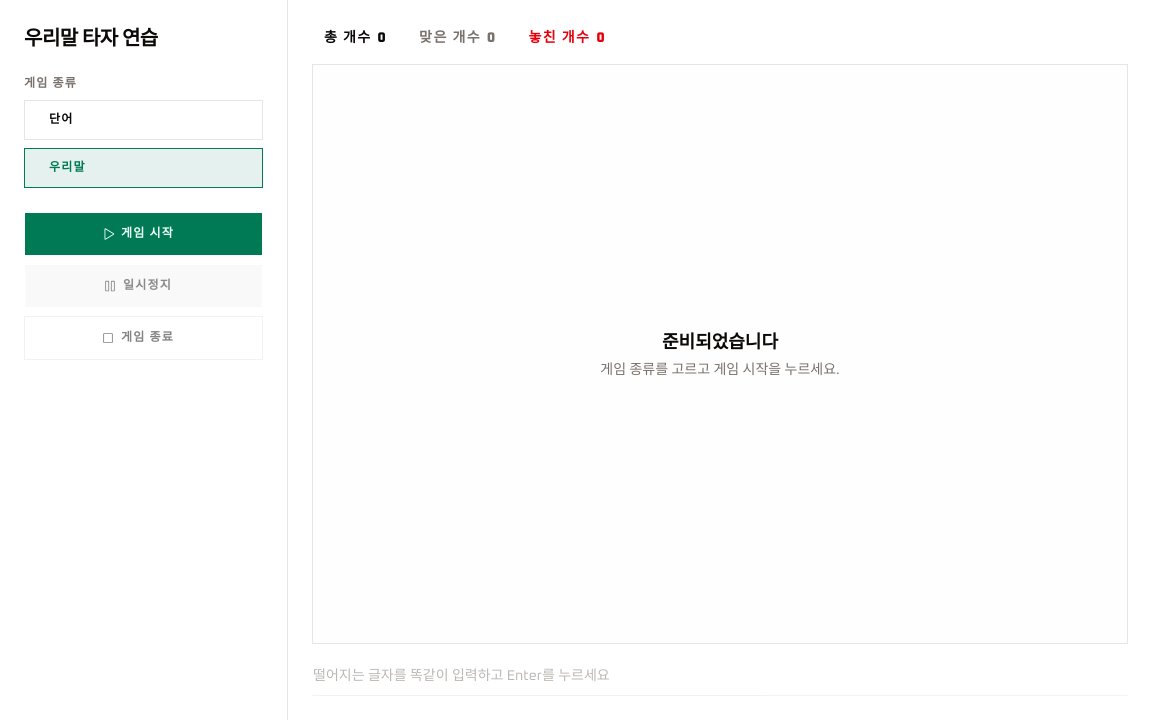
Scenario: 똑같이 입력하고 Enter를 누르면 사라지고 맞은 개수가 늘며 입력창이 비워진다
Click the button "게임 시작": [144, 234] box left=24, top=212, right=263, bottom=256
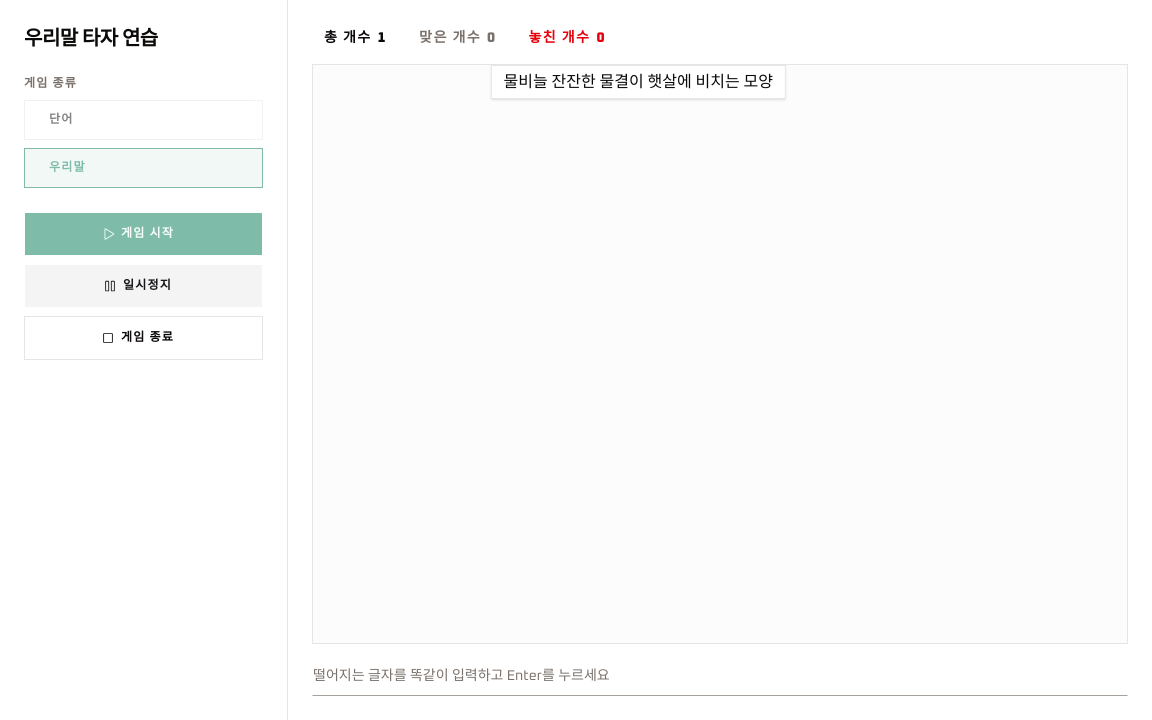
In the field named "타이핑 입력": [720, 676] box left=312, top=656, right=1128, bottom=696, type "물비늘 잔잔한 물결이 햇살에 비치는 모양"
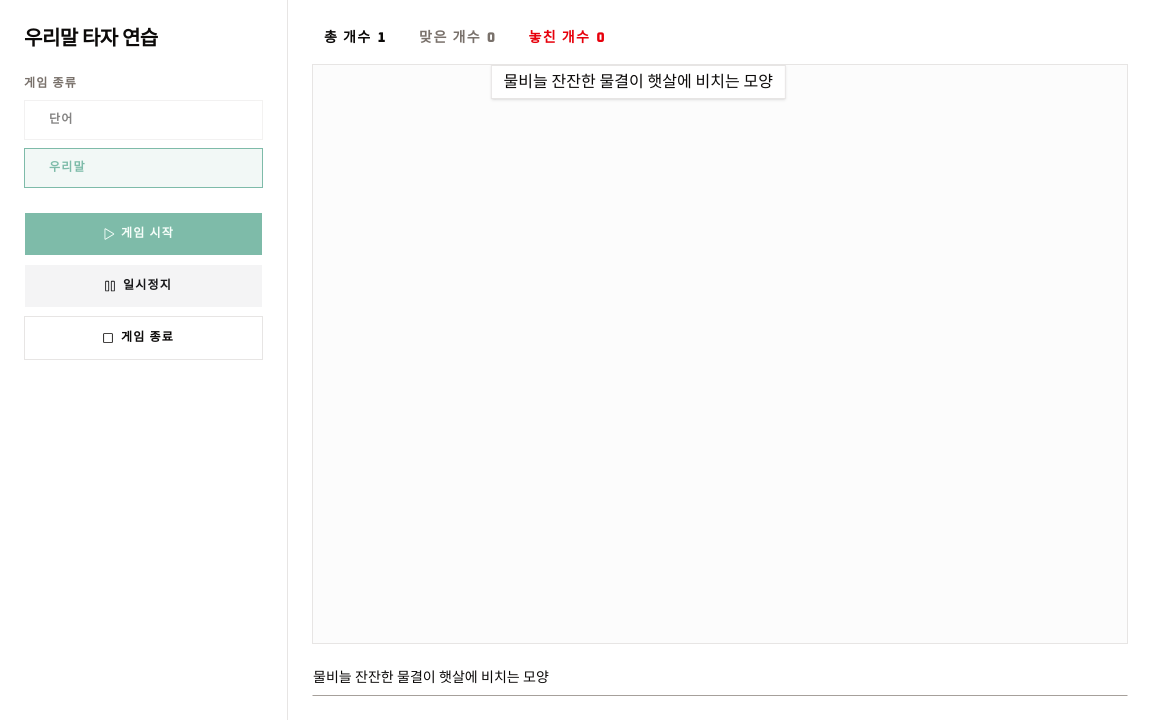
Press Enter in the field named "타이핑 입력", box left=312, top=656, right=1128, bottom=696
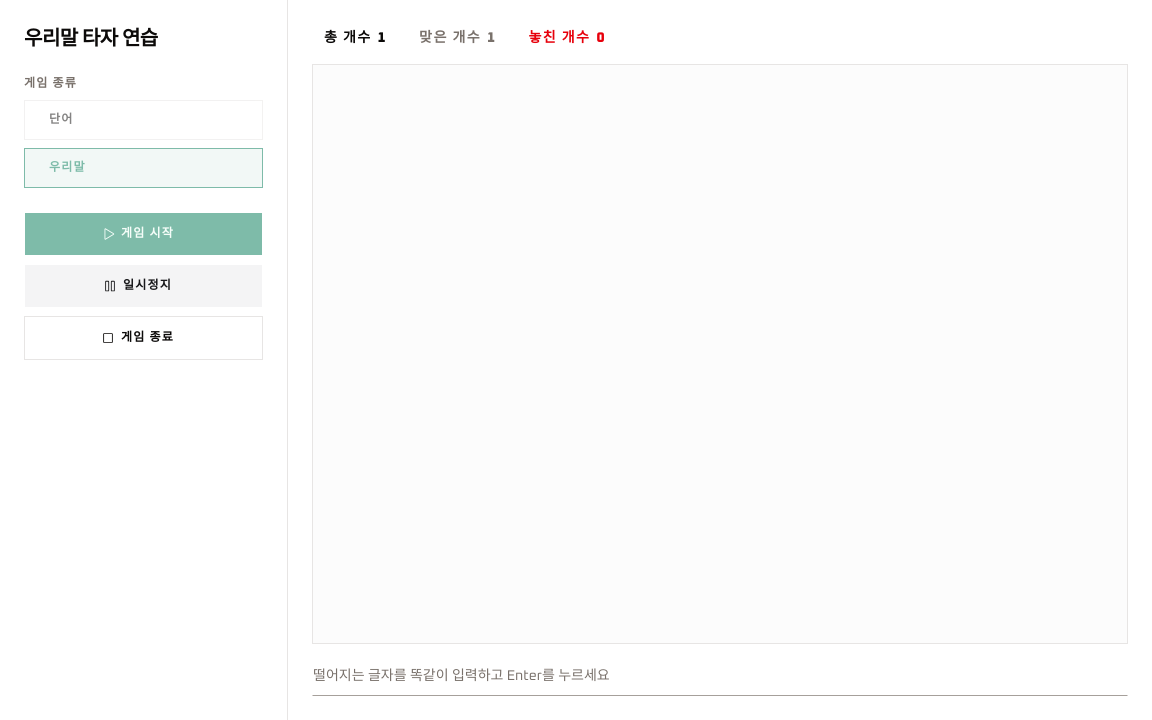
Now the text with test id "falling-phrase" is gone
Now the field named "타이핑 입력" is empty, box left=312, top=656, right=1128, bottom=696
